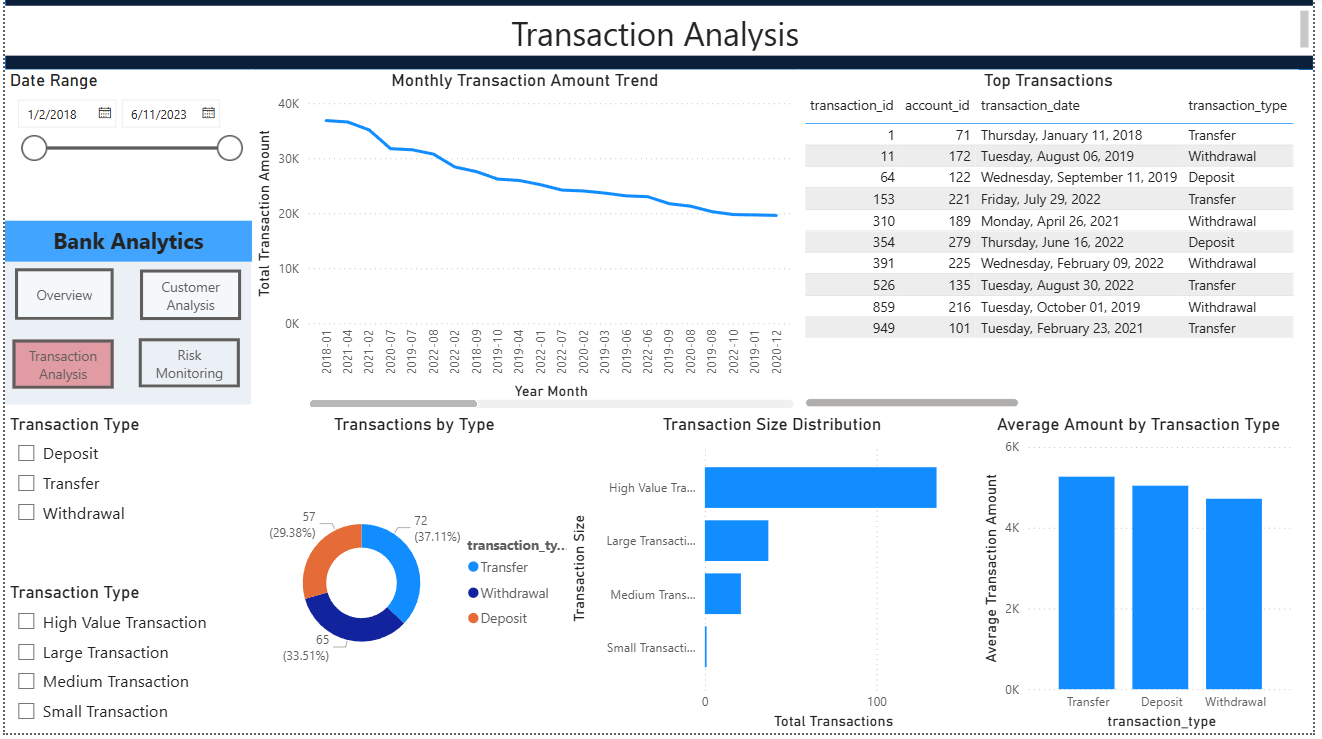

This screenshot's page, from the dashboard's own definition file:
{"tool":"powerbi","page":{"name":"Transaction Analysis","canvas":[1280,720],"ordinal":2},"visuals":[{"type":"shape","box":[0,0,1280.3,71.4],"z":0},{"type":"textbox","box":[0,9,1280,49],"z":1000},{"type":"slicer","title":"Date Range","fields":{"Values":["Date Table.Date"]},"box":[0,70.9,240.9,148],"z":2000},{"type":"slicer","title":"Transaction Type","fields":{"Values":["transactions_bank.transaction_type"]},"box":[0,407.2,229.9,165.1],"z":3000},{"type":"slicer","title":"Transaction Type","fields":{"Values":["transactions_bank.Transaction Size"]},"box":[0,572.3,231.1,148],"z":4000},{"type":"lineChart","title":"Monthly Transaction Amount Trend","fields":{"Category":["Date Table.Year Month"],"Y":["Measures Table.Total Transaction Amount"]},"box":[240.9,70.9,535.6,336.3],"z":5000},{"type":"donutChart","title":"Transactions by Type","fields":{"Category":["transactions_bank.transaction_type"],"Y":["Measures Table.Total Transactions"]},"box":[240.9,407.2,319.2,313],"z":6000},{"type":"tableEx","title":"Top Transactions","fields":{"Values":["transactions_bank.transaction_id","transactions_bank.account_id","transactions_bank.transaction_date","transactions_bank.transaction_type","transactions_bank.amount","transactions_bank.Transaction Size","transactions_bank.Transaction Risk Level","transactions_bank.description"]},"box":[776.6,71,488.6,335.8],"z":7000},{"type":"clusteredBarChart","title":"Transaction Size Distribution","fields":{"Category":["transactions_bank.Transaction Size"],"Y":["Measures Table.Total Transactions"]},"box":[548.7,406.7,402.6,313.9],"z":8000},{"type":"clusteredColumnChart","title":"Average Amount by Transaction Type","fields":{"Category":["transactions_bank.transaction_type"],"Y":["Measures Table.Average Transaction Amount"]},"box":[951.3,406.7,315.3,313.9],"z":9000},{"type":"shape","box":[0,218.9,240.9,179.8],"z":9500},{"type":"group","id":"g1","title":"Group 1","box":[0,218.4,241.3,164.1],"z":10000},{"type":"actionButton","box":[7.2,334.2,98.9,48.3],"z":21500,"group":"g1"},{"type":"actionButton","box":[9.7,265.5,96.5,50.7],"z":21750,"group":"g1"},{"type":"actionButton","box":[131.5,266.7,98.9,49.5],"z":21875,"group":"g1"},{"type":"textbox","box":[0,218.4,241.3,39.8],"z":22000,"group":"g1"},{"type":"actionButton","box":[130.3,333,98.9,48.3],"z":23000,"group":"g1"}]}

Visuals, with their boxes in screenshot pixels (x1, y1, x2, y2), scaled from the page's 1280x720 canvas onto the 1322x739 screenshot:
shape: 0,0,1321,73
textbox: 0,9,1321,60
"Date Range" slicer: 0,73,249,225
"Transaction Type" slicer: 0,418,237,587
"Transaction Type" slicer: 0,587,239,738
"Monthly Transaction Amount Trend" lineChart: 249,73,802,418
"Transactions by Type" donutChart: 249,418,578,738
"Top Transactions" tableEx: 802,73,1307,418
"Transaction Size Distribution" clusteredBarChart: 567,417,983,738
"Average Amount by Transaction Type" clusteredColumnChart: 983,417,1308,738
shape: 0,225,249,409
"Group 1" group: 0,224,249,393
actionButton: 7,343,110,393
actionButton: 10,273,110,325
actionButton: 136,274,238,325
textbox: 0,224,249,265
actionButton: 135,342,237,391
